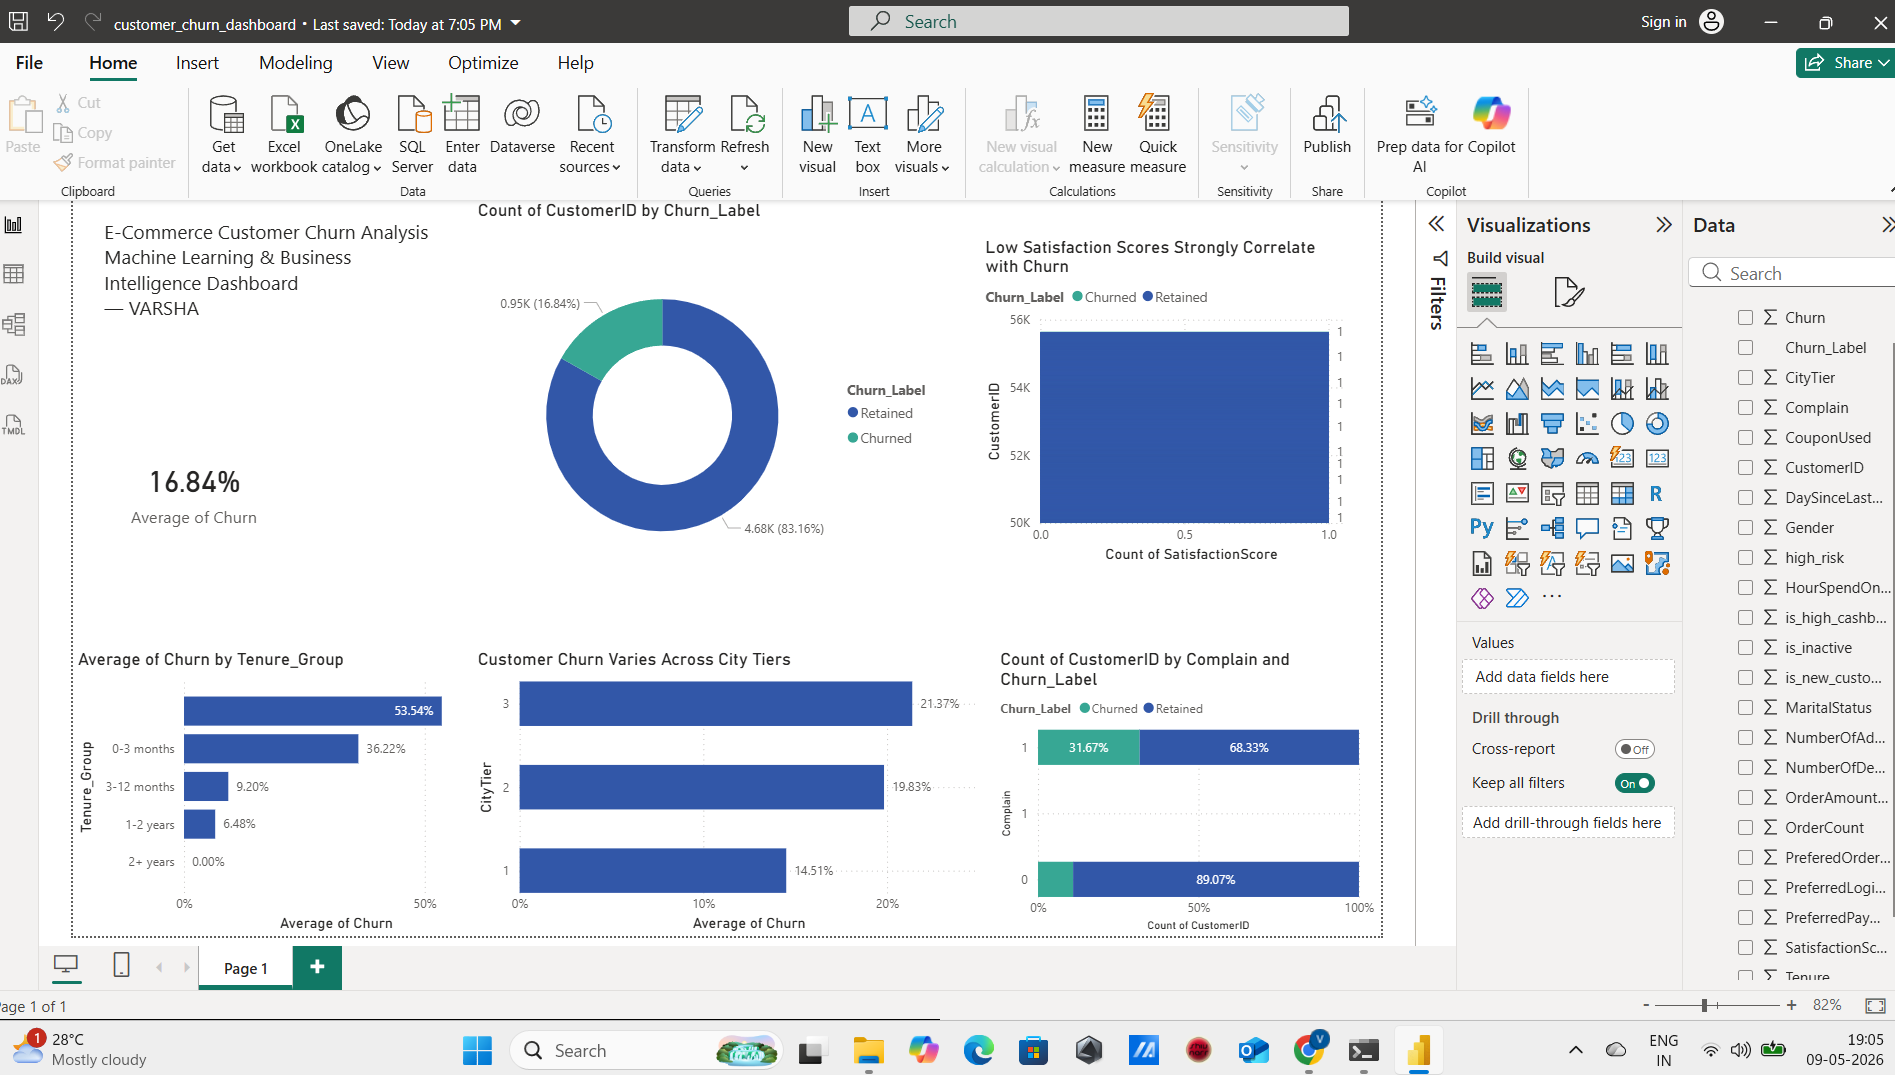

The dashboard page shown, as its layout file describes it:
{"tool":"powerbi","page":{"name":"Page 1","canvas":[1280,720],"ordinal":0},"visuals":[{"type":"card","fields":{"Values":["Avg(dashboard_data.Churn)"]},"box":[25.7,225,185.9,119.8],"z":0},{"type":"donutChart","fields":{"Category":["dashboard_data.Churn_Label"],"Y":["CountNonNull(dashboard_data.CustomerID)"]},"box":[391.3,0,465.9,402.3],"z":1000},{"type":"clusteredBarChart","fields":{"Category":["dashboard_data.Tenure_Group"],"Y":["Avg(dashboard_data.Churn)"]},"box":[0,439.5,424.1,281.4],"z":2000},{"type":"clusteredBarChart","title":"Customer Churn Varies Across City Tiers","fields":{"Category":["dashboard_data.CityTier"],"Y":["Avg(dashboard_data.Churn)"]},"box":[390.9,439.4,512.1,281.8],"z":3000},{"type":"hundredPercentStackedBarChart","fields":{"Category":["dashboard_data.Complain"],"Y":["CountNonNull(dashboard_data.CustomerID)"],"Series":["dashboard_data.Churn_Label"]},"box":[903.1,439.4,375.8,281.8],"z":4000},{"type":"clusteredBarChart","title":"Low Satisfaction Scores Strongly Correlate with Churn","fields":{"Category":["dashboard_data.CustomerID"],"Y":["Count(dashboard_data.SatisfactionScore)"],"Series":["dashboard_data.Churn_Label"]},"box":[887.8,35.5,368.1,324.1],"z":5000},{"type":"textbox","box":[25.7,13.5,327.7,134.5],"z":6000}]}

Visuals, with their boxes on the page's 1280x720 design canvas (x1, y1, x2, y2). These are canvas units, not pixel positions in the 1895x1075 screenshot, which may show the page scaled, cropped or inside an application window:
card - Avg(dashboard_data.Churn): <bbox>26, 225, 212, 345</bbox>
donutChart - dashboard_data.Churn_Label x CountNonNull(dashboard_data.CustomerID): <bbox>391, 0, 857, 402</bbox>
clusteredBarChart - dashboard_data.Tenure_Group x Avg(dashboard_data.Churn): <bbox>0, 440, 424, 721</bbox>
"Customer Churn Varies Across City Tiers" clusteredBarChart: <bbox>391, 439, 903, 721</bbox>
hundredPercentStackedBarChart - dashboard_data.Complain x CountNonNull(dashboard_data.CustomerID): <bbox>903, 439, 1279, 721</bbox>
"Low Satisfaction Scores Strongly Correlate with Churn" clusteredBarChart: <bbox>888, 36, 1256, 360</bbox>
textbox: <bbox>26, 14, 353, 148</bbox>
